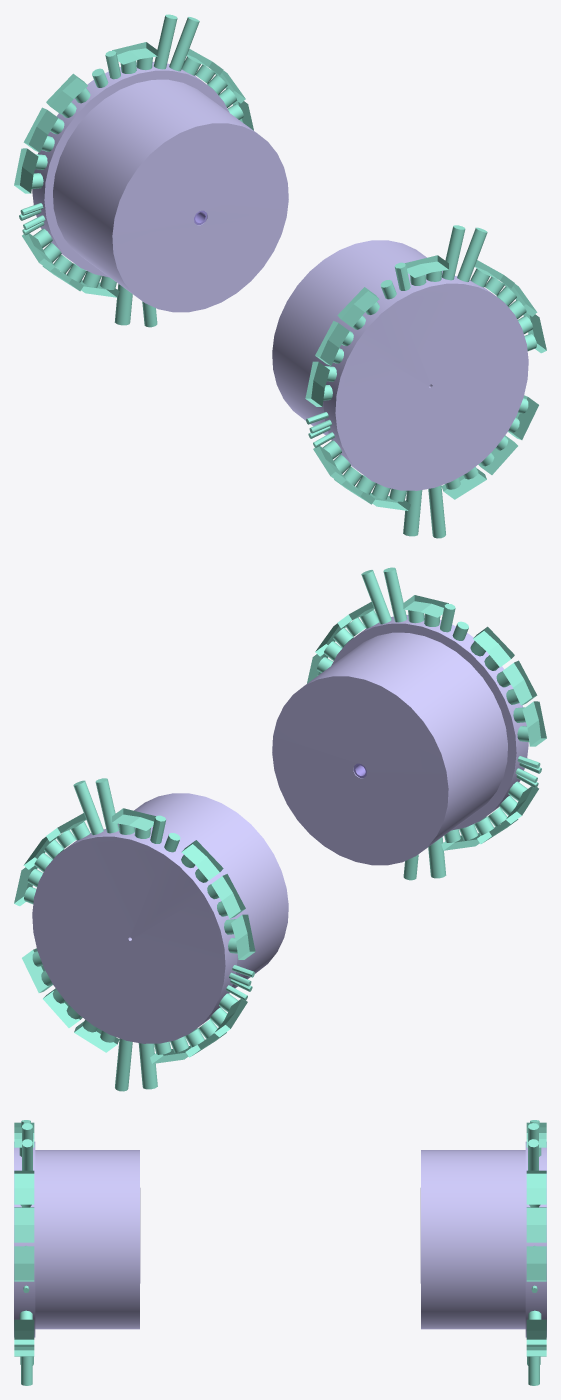
File: calorimeter-lar-endcap.glb
3 renders of one model, top to bottom at view 1: azimuth 30°, elevation 25°; view 2: azimuth 150°, elevation 25°; view 3: azimuth 270°, elevation 25°, orthographic. The views are drawn at different scales.
Parts seen in each view (by area): view 1: Mesh_1.007, Mesh_1.003, Mesh_1.002, Mesh_1.006; view 2: Mesh_1.003, Mesh_1.007, Mesh_1.006, Mesh_1.002; view 3: Mesh_1.003, Mesh_1.007, Mesh_1.002, Mesh_1.006.
Boxes of the visible parts, <box> form: Mesh_1.007: <box>32,62,288,312</box>; Mesh_1.003: <box>272,240,528,490</box>; Mesh_1.002: <box>305,225,546,538</box>; Mesh_1.006: <box>14,14,253,327</box>; Mesh_1.003: <box>272,615,528,865</box>; Mesh_1.007: <box>32,793,288,1043</box>; Mesh_1.006: <box>14,778,255,1091</box>; Mesh_1.002: <box>307,567,546,880</box>; Mesh_1.003: <box>14,1141,140,1337</box>; Mesh_1.007: <box>420,1141,546,1337</box>; Mesh_1.002: <box>14,1120,34,1385</box>; Mesh_1.006: <box>526,1120,546,1385</box>.
Bounding box in the file's own units: 5.91 × 7.45 × 13.44.
